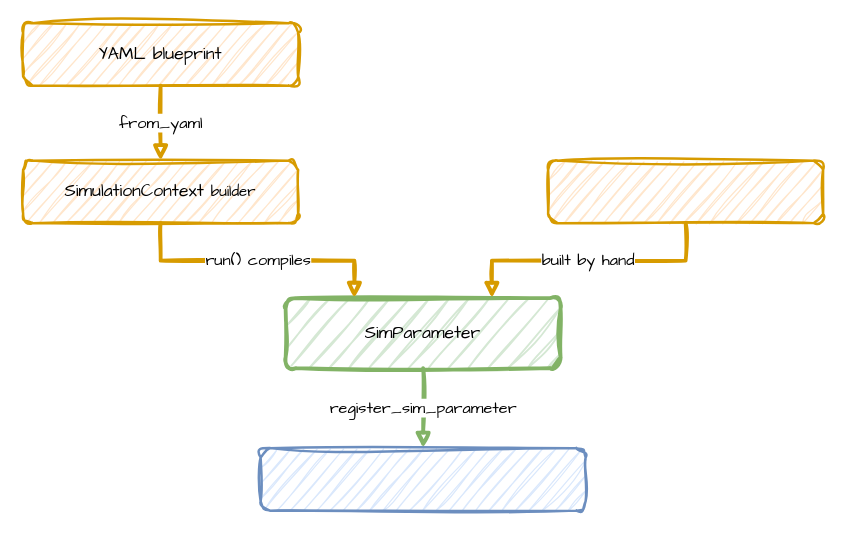
This 845x533 diagram has some shape labels left out. Here are the shapes that lost their labels. From the top down, the box of each, then its label:
(546, 159, 824, 224): low-level script
(259, 446, 586, 511): DynamicRealtimeEnvironment
